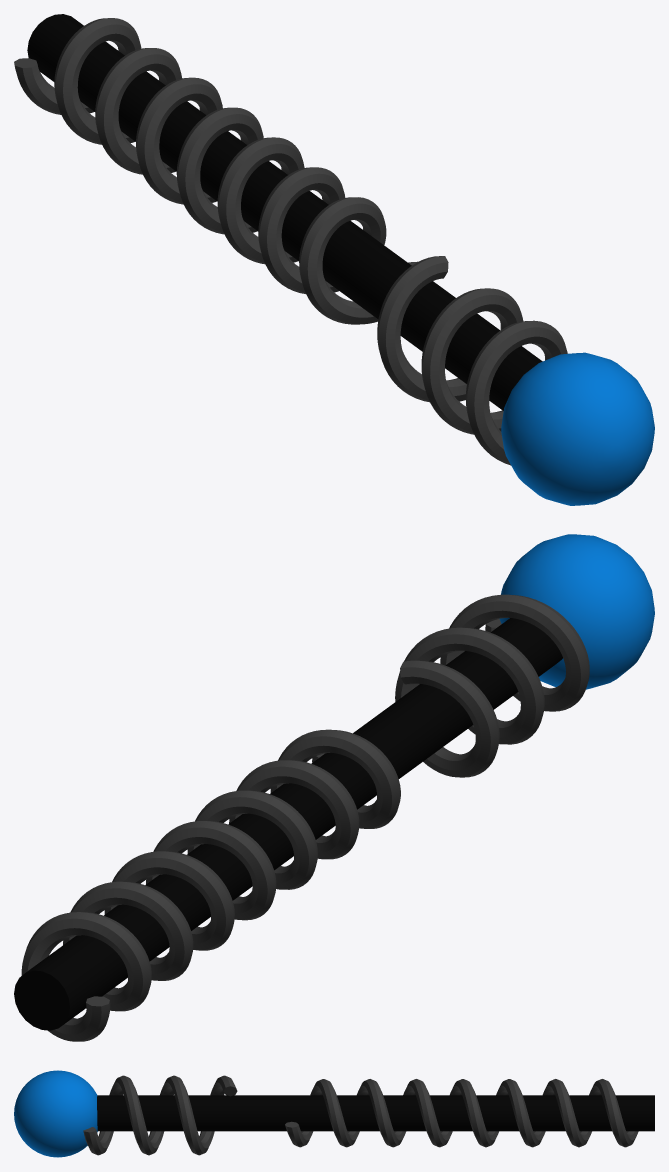
The model's file is Plunger.obj.
3 views of the same model, one above another, from view 1: azimuth 30°, elevation 25°; view 2: azimuth 150°, elevation 25°; view 3: azimuth 270°, elevation 25° (orthographic). The views are drawn at different scales.
Visible parts, largest first — view 1: polySurface1; view 2: polySurface1; view 3: polySurface1.
Part boxes in pixels (<box>): polySurface1: <box>14,14,654,505</box>; polySurface1: <box>14,534,654,1041</box>; polySurface1: <box>14,1070,654,1157</box>.
Size of the model in its own units: 0.1915 by 0.1915 by 1.4.
